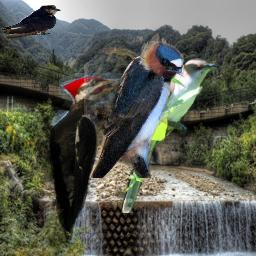Cuckoo: (121, 58, 222, 213)
Swallow: (84, 41, 184, 178), (1, 5, 61, 39)
Woodpecker: (37, 73, 145, 243)
